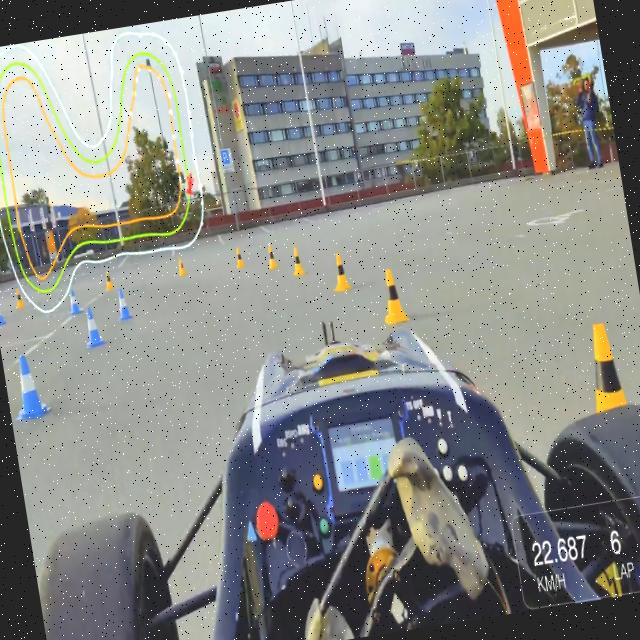blue_cone: (8, 338, 58, 427), (77, 303, 111, 355), (113, 279, 139, 326)
yellow_cone: (581, 324, 630, 418), (371, 250, 414, 332), (327, 247, 357, 294), (284, 242, 312, 285), (167, 252, 199, 286), (231, 236, 252, 280), (259, 236, 282, 274)
